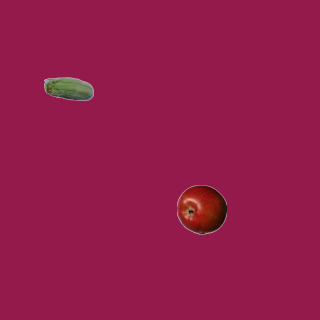Apple Braeburn: (176, 184, 226, 234)
Corn Husk: (43, 65, 93, 115)
